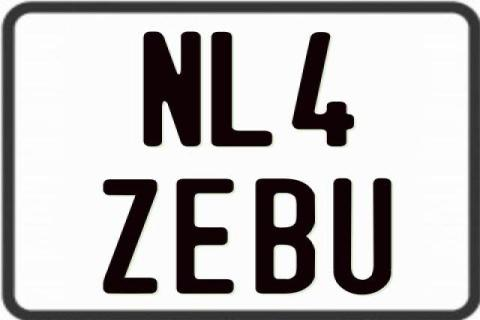0: (291, 30, 354, 146)
B: (255, 177, 317, 293)
E: (175, 178, 237, 296)
L: (209, 32, 274, 150)
N: (142, 30, 200, 146)
U: (333, 179, 397, 297)
Z: (100, 178, 158, 294)
